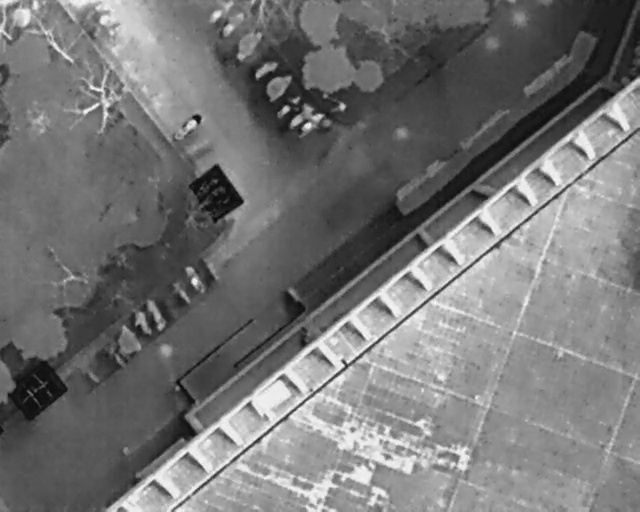Bicycle: (225, 25, 267, 68), (281, 96, 320, 137), (170, 108, 207, 147), (293, 105, 332, 142), (215, 5, 252, 43), (271, 89, 305, 125), (141, 294, 171, 333), (179, 262, 210, 298), (127, 305, 157, 342), (248, 53, 283, 84), (263, 69, 296, 101), (203, 0, 232, 30), (169, 277, 195, 309)
